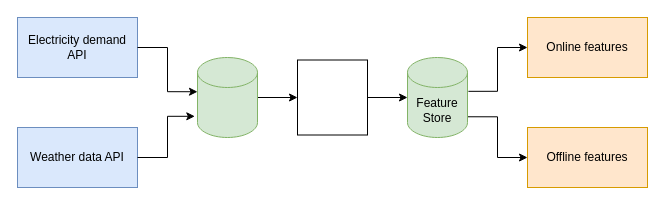
This 665x205 diagram has some shape labels left out. Here are the shapes that lost their labels. From the top down, the box of each, then its label:
(196, 56, 258, 138): Parquet files
(296, 59, 368, 135): Transform
